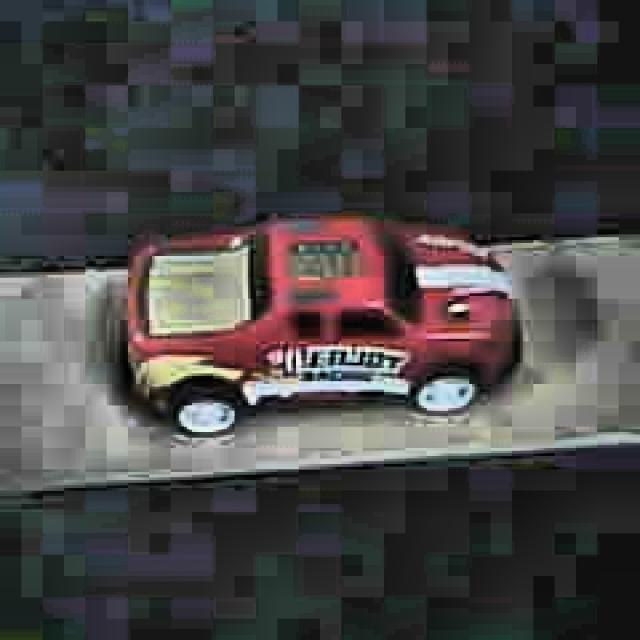car: (118, 209, 522, 438)
